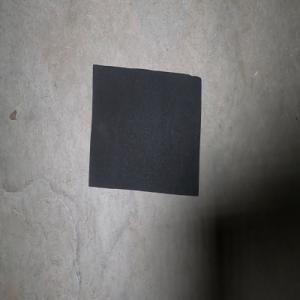PaintChip: (88, 64, 201, 196)
